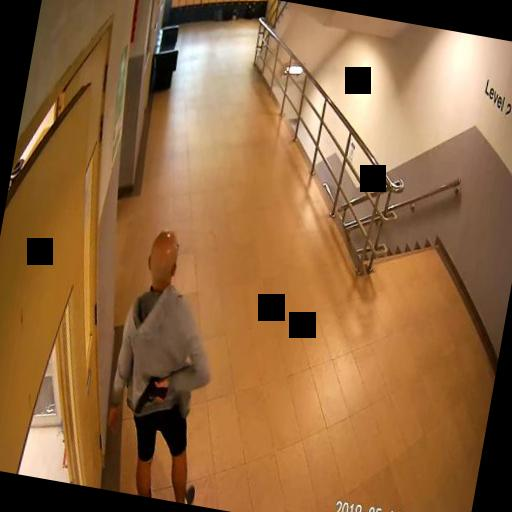Handgun: (134, 374, 166, 414)
